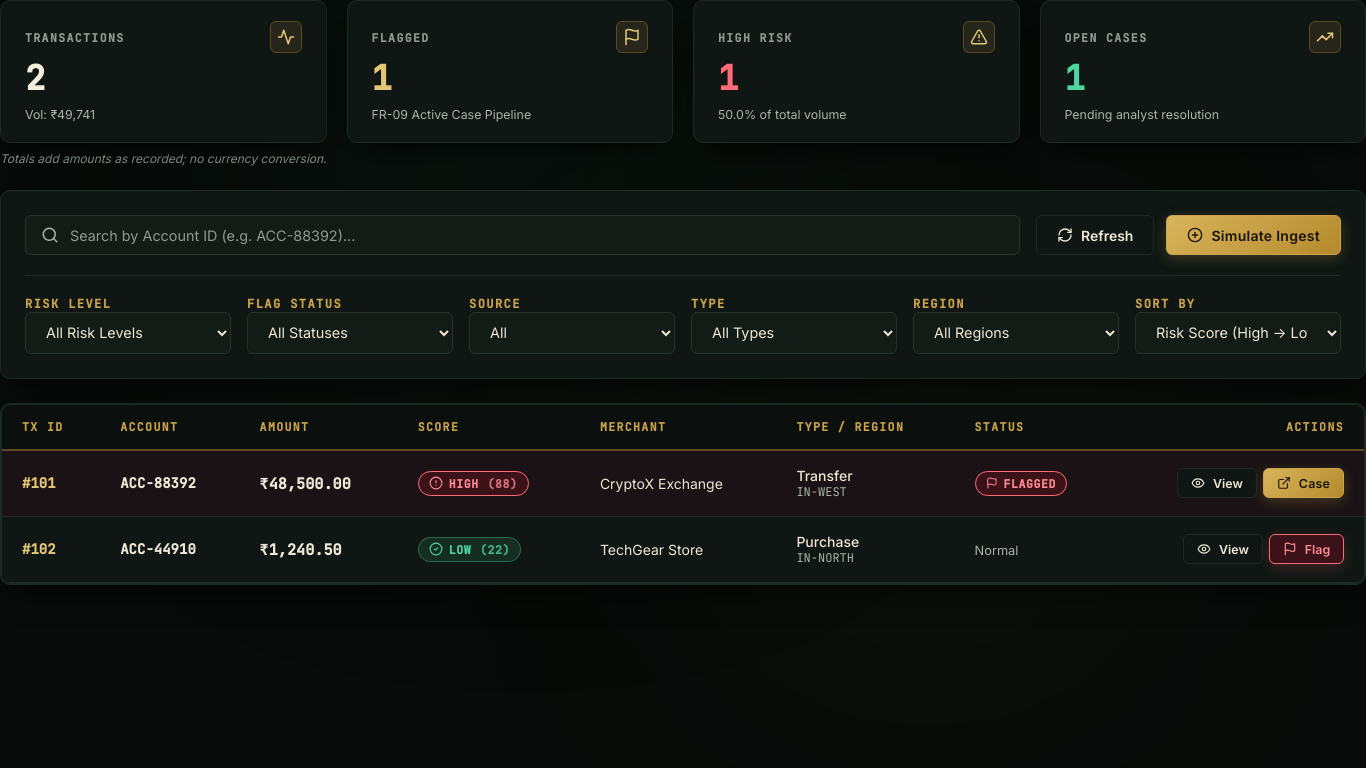
Scenario: DashboardPage › shows error message when flag transaction action fails
Expected: the text "ACC-44910" is shown, [120,540,196,558]
// Find flag action button for unflagged transaction ACC-44910
Click the button titled "Flag for Investigation (FR-09)": (1306, 549) [1269,534,1344,564]
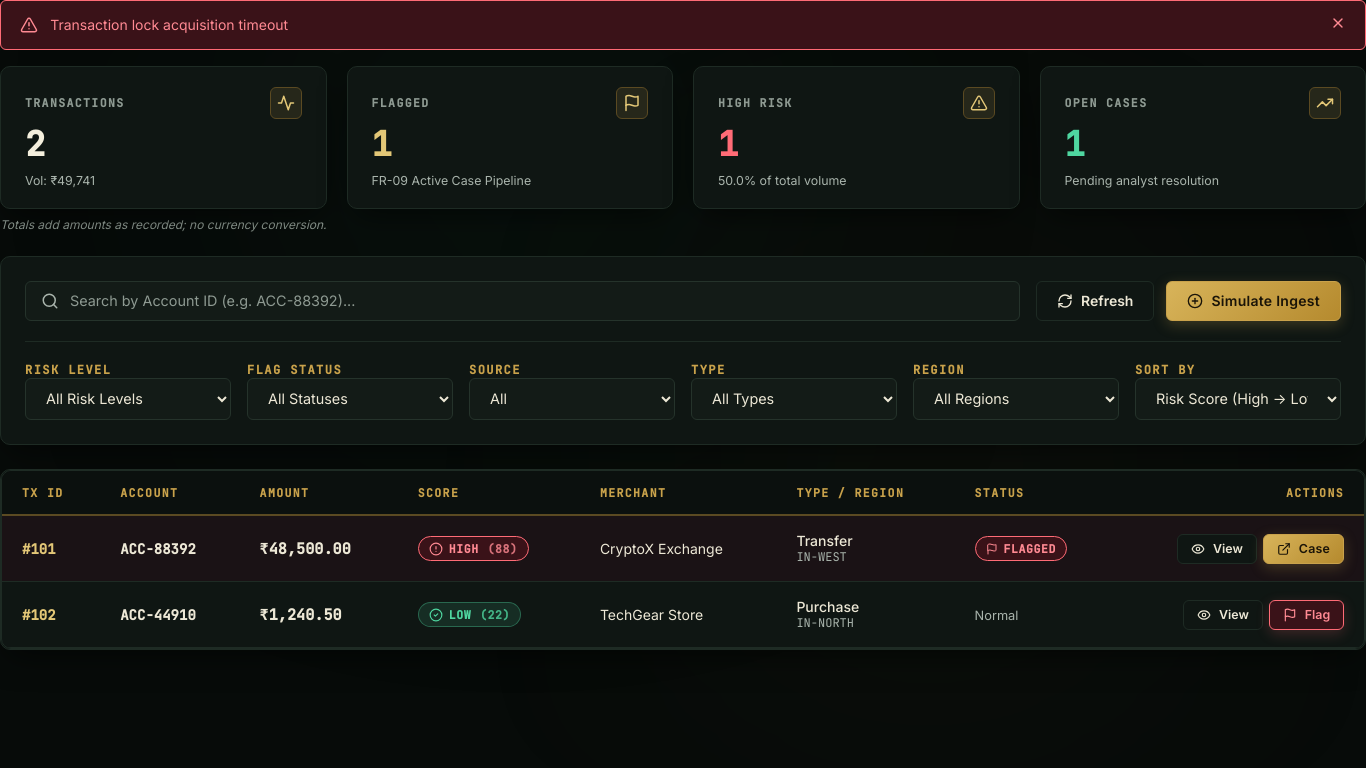
Now the text "Transaction lock acquisition timeout" is shown, box [50,16,288,33]
